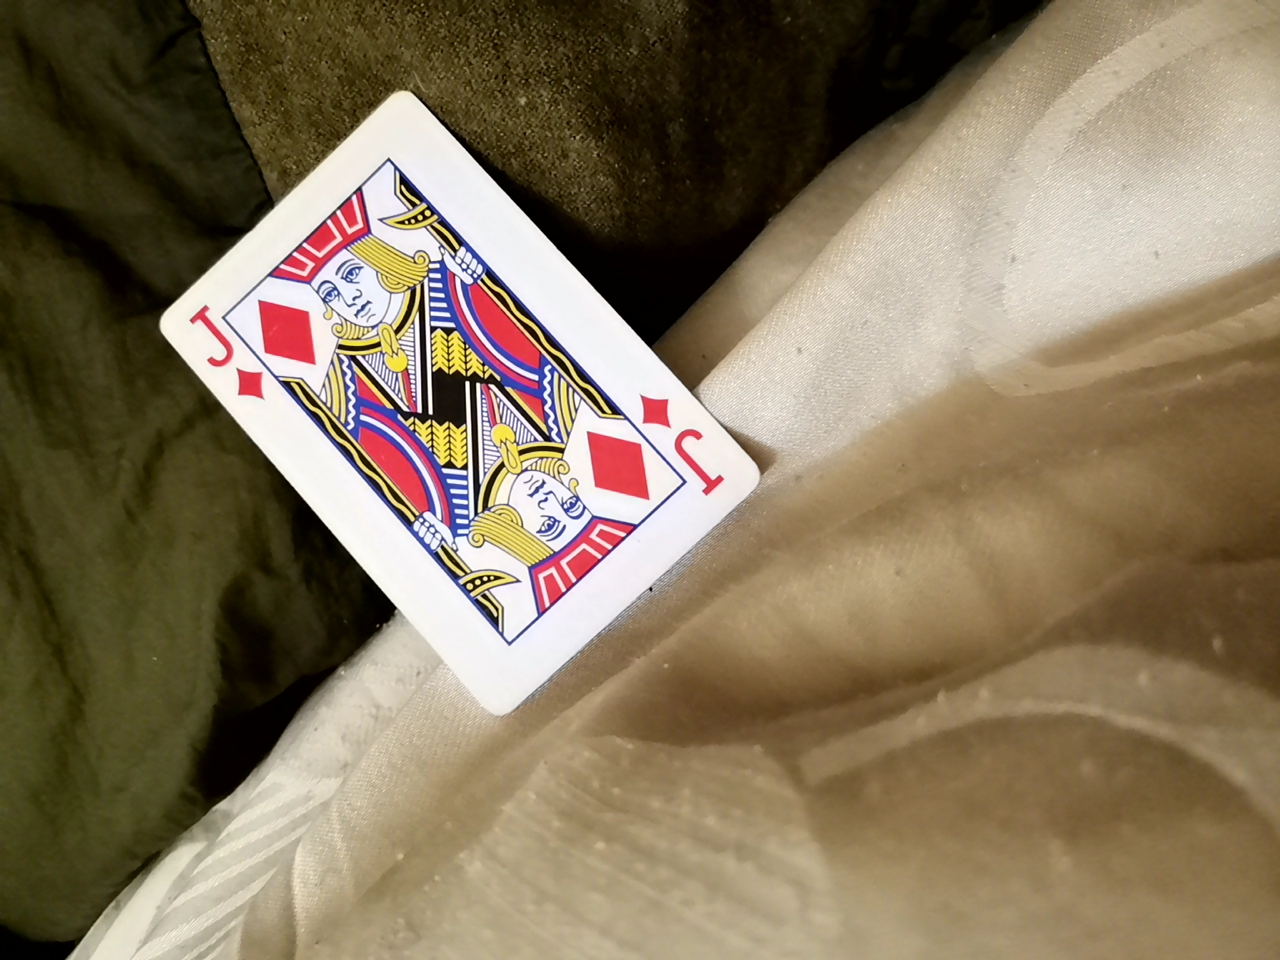fk j: (153, 119, 739, 735)
